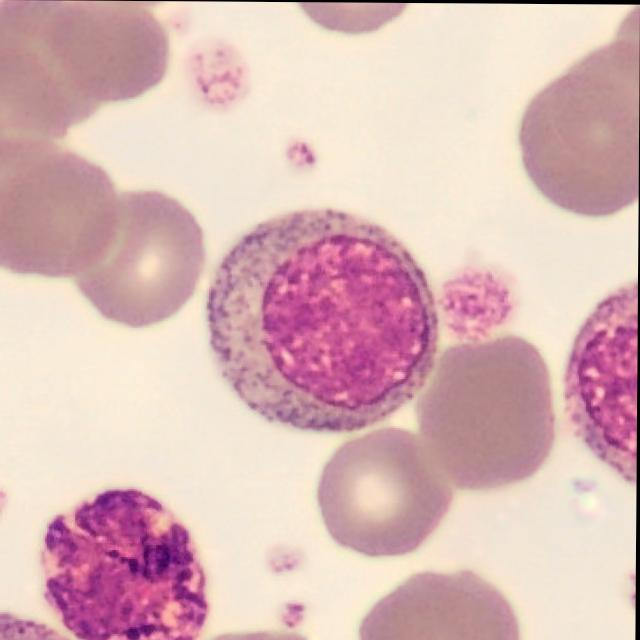Mielocito: (206, 208, 440, 434)
